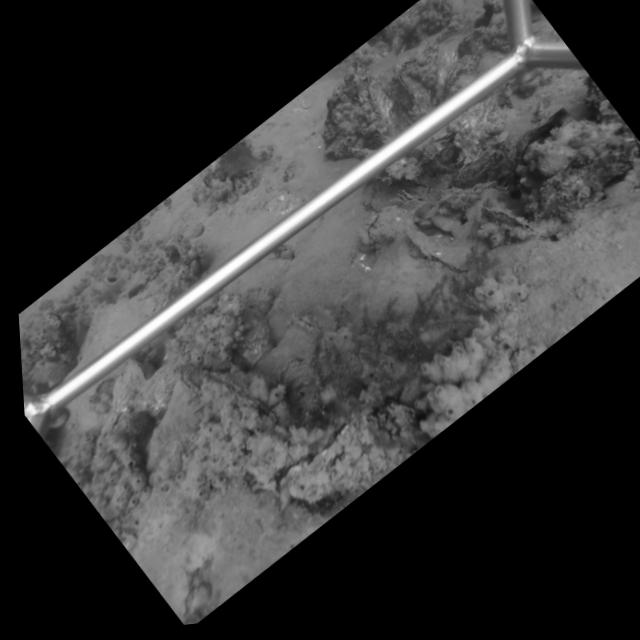Oyster-Closed: (181, 371, 290, 482), (406, 232, 492, 274), (360, 203, 410, 252), (480, 203, 544, 238), (175, 361, 203, 395)
Oyster-Indeterminate: (284, 397, 420, 509)
